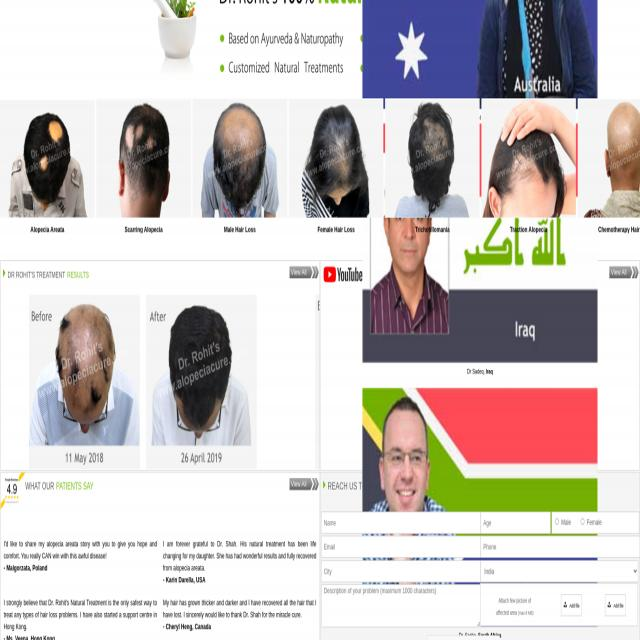button: (29, 295, 257, 469), (362, 388, 598, 512), (371, 152, 449, 336), (192, 98, 288, 218), (96, 98, 191, 218), (288, 98, 383, 217), (385, 98, 479, 218), (482, 98, 576, 218), (0, 98, 94, 217), (577, 98, 640, 218), (320, 260, 366, 288), (1, 472, 25, 510), (604, 594, 626, 616), (561, 594, 582, 616), (610, 266, 638, 279), (290, 266, 318, 279), (290, 478, 318, 490)
field: (322, 585, 481, 626), (322, 511, 481, 534), (480, 536, 640, 558), (322, 536, 481, 558), (322, 560, 481, 582), (481, 560, 638, 582), (480, 511, 550, 534), (554, 518, 560, 526), (581, 517, 585, 526)
